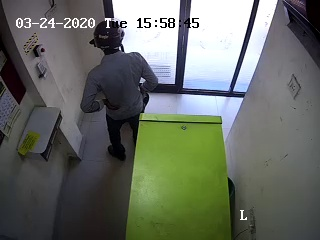helmet: (90, 20, 131, 61)
